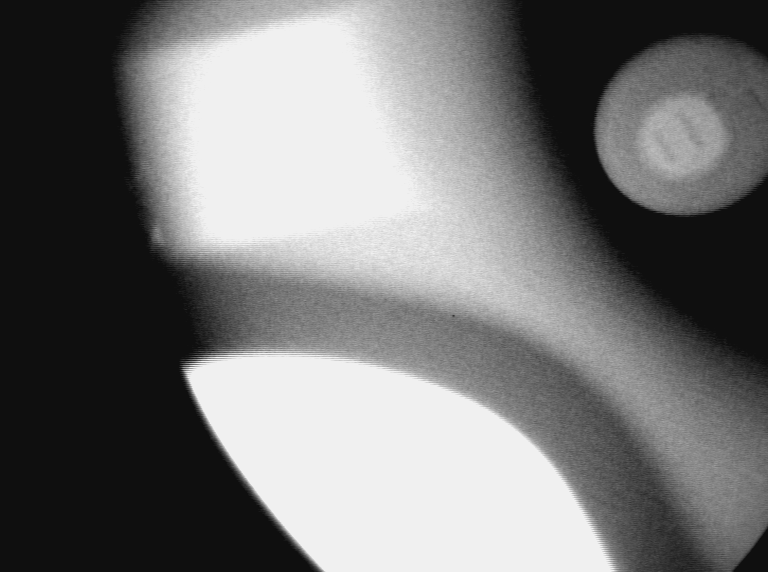defect: (127, 156, 153, 190)
